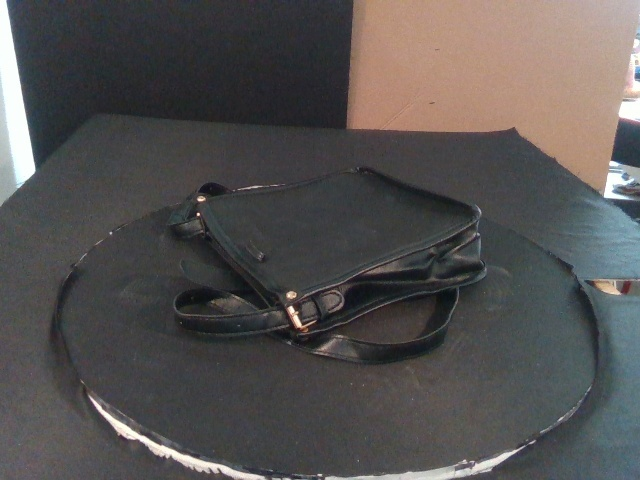bag: (195, 166, 487, 334)
